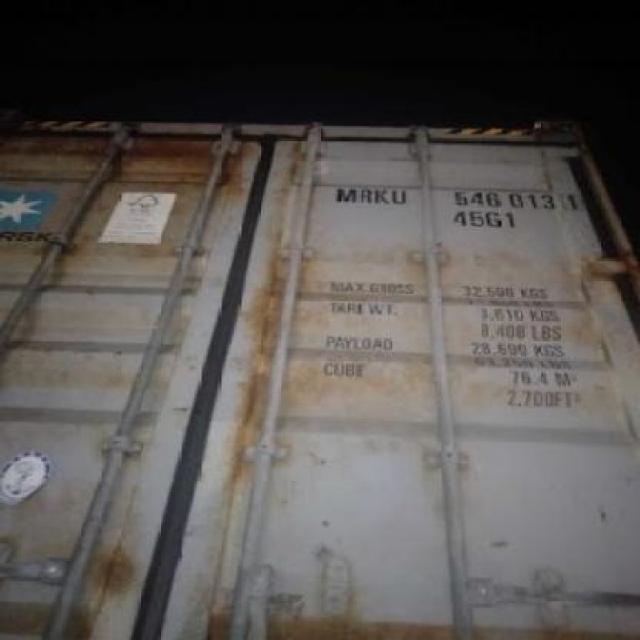ISO: (456, 212, 518, 230)
container_number: (330, 179, 586, 211)
